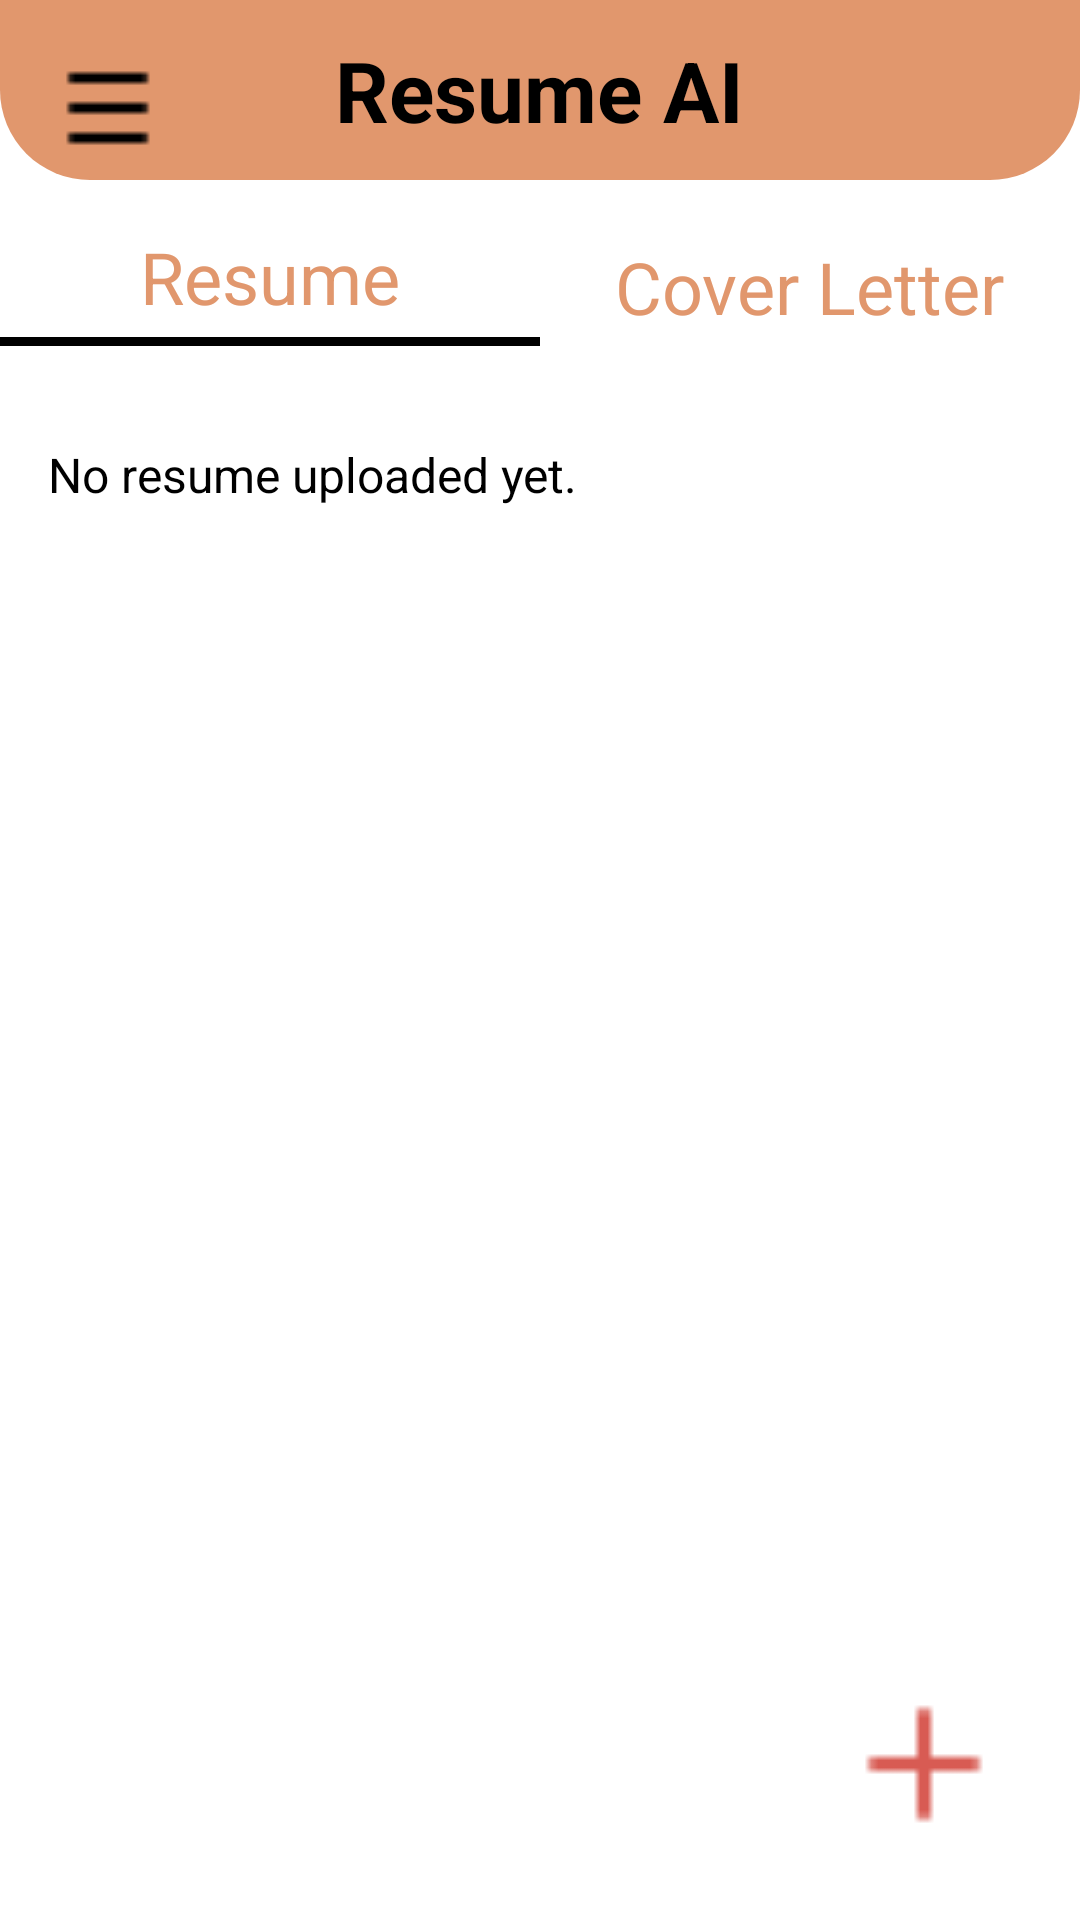

Where to tap for icons on this 1080px x 1920px app screen, as point (x, y):
add: point (924, 1764)
Open navigation menu: point (108, 108)
